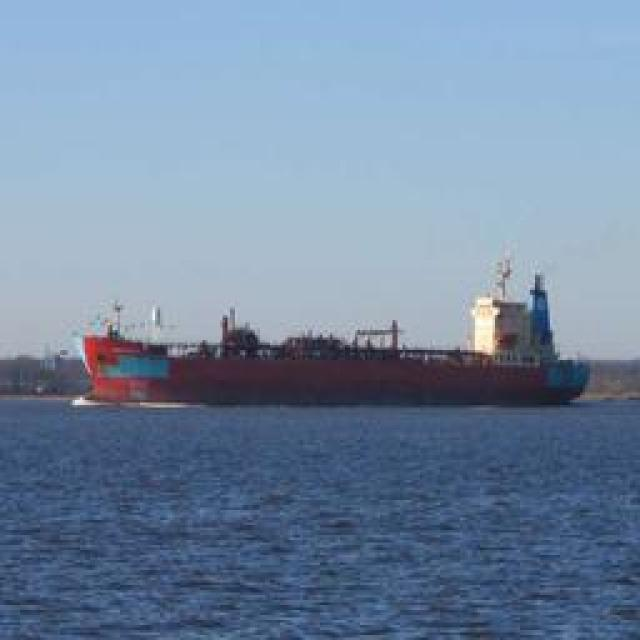ship2: (82, 242, 591, 407)
